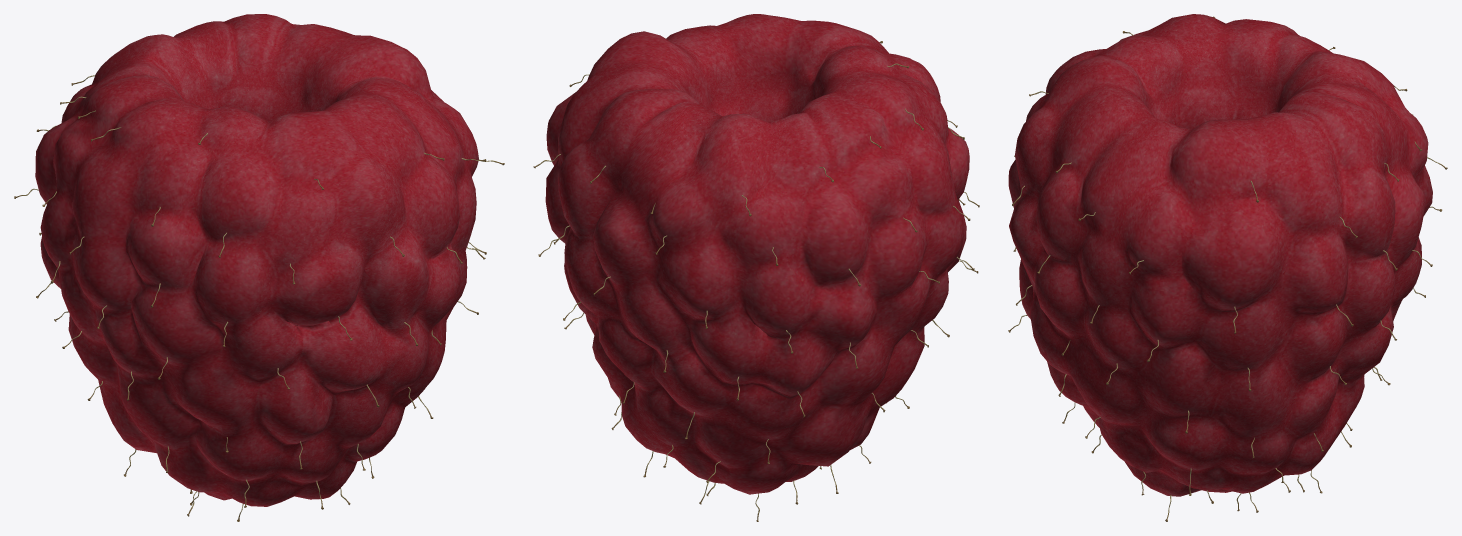
Rendered from raspberries.glb.
3 renders of one model, left to right at view 1: azimuth 30°, elevation 25°; view 2: azimuth 150°, elevation 25°; view 3: azimuth 270°, elevation 25°, orthographic. The views are drawn at different scales.
Parts seen in each view (by area): view 1: Mesh_raspberry_0; view 2: Mesh_raspberry_0; view 3: Mesh_raspberry_0.
Part boxes in pixels (bbox=[...]): Mesh_raspberry_0: bbox=[14, 14, 504, 521]; Mesh_raspberry_0: bbox=[533, 14, 979, 521]; Mesh_raspberry_0: bbox=[1008, 14, 1447, 521].
Size of the model in its own units: 6.39 by 6.54 by 6.07.
Materials: 1 (1 with a texture image).
